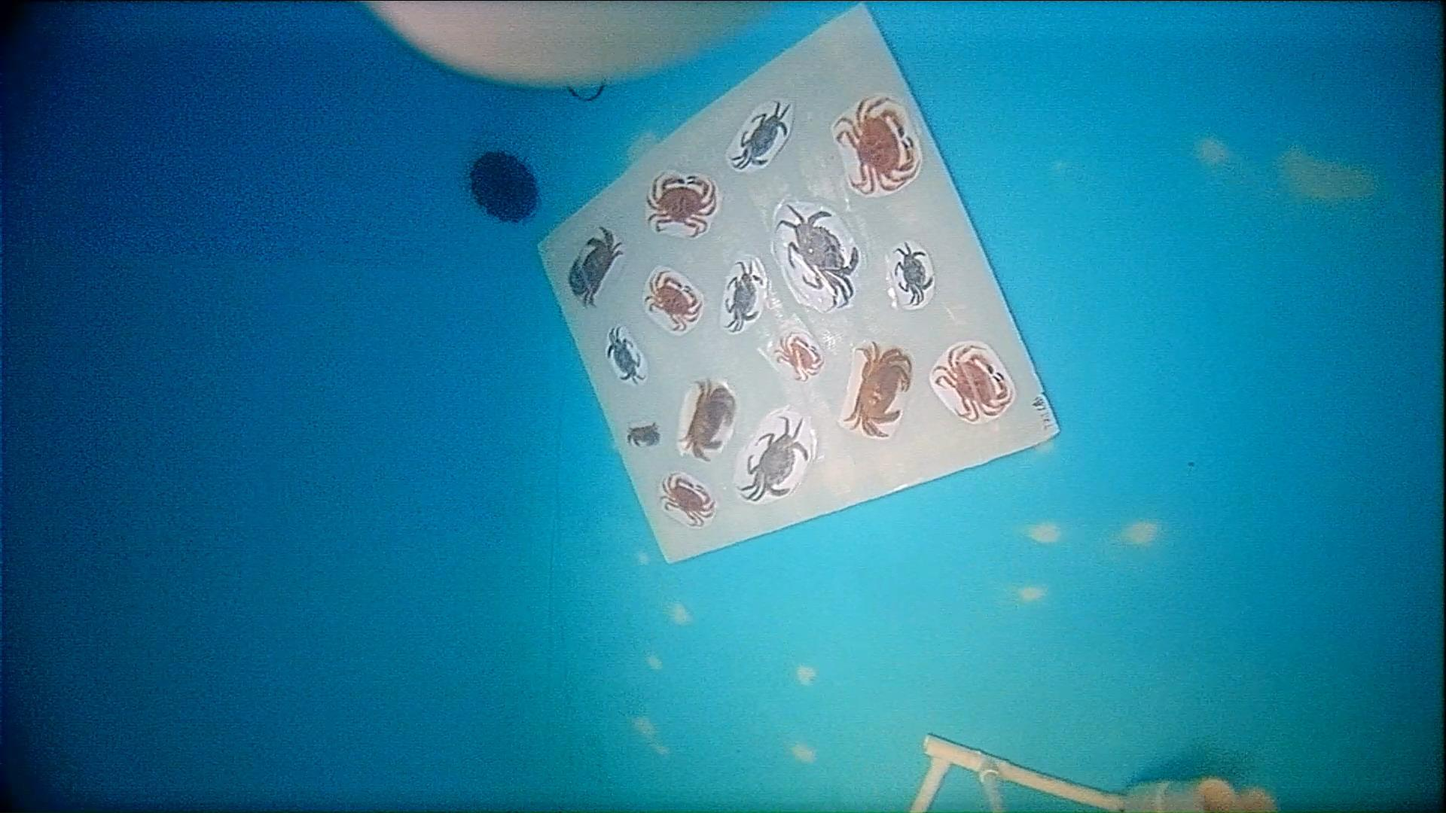GreenCrab: (779, 206, 857, 300), (778, 206, 856, 281), (742, 416, 808, 501), (730, 102, 790, 170), (721, 257, 767, 333)
